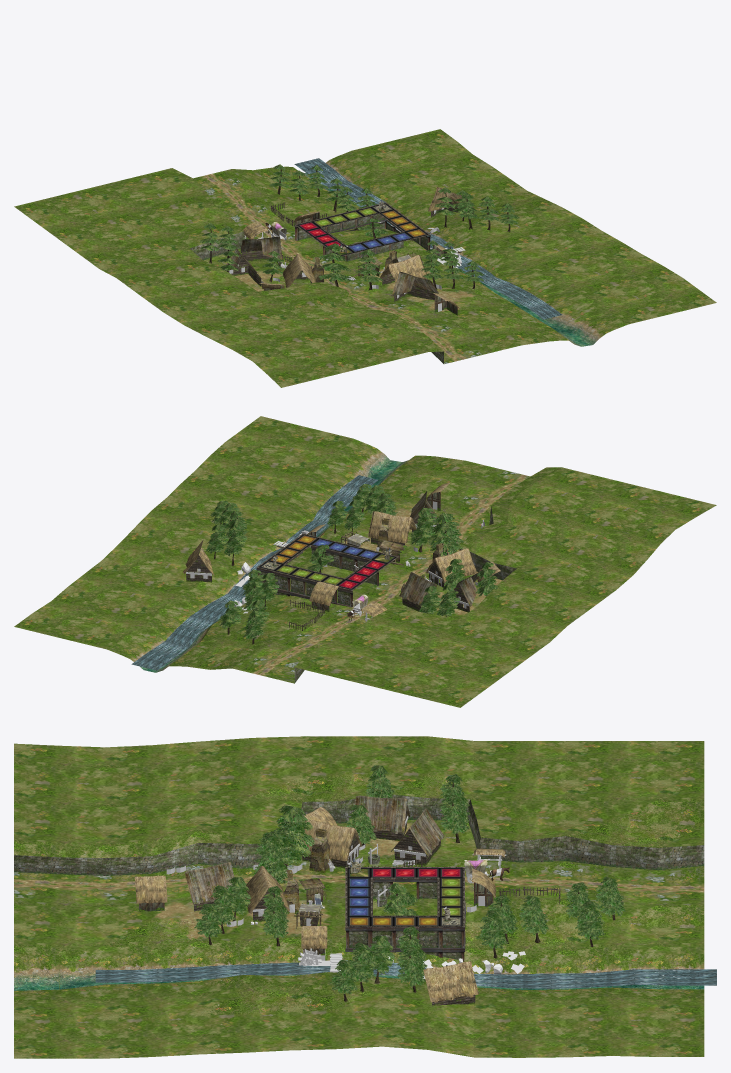
File: Santana.fbx
3 renders of one model, top to bottom at view 1: azimuth 30°, elevation 25°; view 2: azimuth 150°, elevation 25°; view 3: azimuth 270°, elevation 25°, orthographic. The views are drawn at different scales.
Visible parts, largest first — view 1: mesh_56, mesh_58, mesh_57, mesh_87, mesh_94, mesh_59, mesh_23, mesh_11, mesh_29, mesh_20, mesh_12, mesh_47 (+1 smaller); view 2: mesh_56, mesh_58, mesh_87, mesh_57, mesh_94, mesh_11, mesh_29, mesh_59, mesh_23, mesh_10, mesh_12, mesh_60; view 3: mesh_56, mesh_58, mesh_87, mesh_57, mesh_60, mesh_94, mesh_59, mesh_23, mesh_11, mesh_10, mesh_29, mesh_55 (+5 smaller).
Boxes of the visible parts, left/top/right/bottom form: mesh_56: left=14, top=129, right=716, bottom=387; mesh_58: left=276, top=151, right=627, bottom=346; mesh_57: left=193, top=169, right=490, bottom=364; mesh_87: left=200, top=164, right=519, bottom=282; mesh_94: left=294, top=158, right=562, bottom=319; mesh_59: left=234, top=261, right=494, bottom=315; mesh_23: left=224, top=237, right=438, bottom=297; mesh_11: left=294, top=214, right=430, bottom=261; mesh_29: left=283, top=254, right=426, bottom=287; mesh_20: left=225, top=250, right=436, bottom=302; mesh_12: left=295, top=202, right=430, bottom=256; mesh_47: left=209, top=169, right=510, bottom=290; mesh_56: left=14, top=416, right=716, bottom=707; mesh_58: left=107, top=439, right=435, bottom=672; mesh_87: left=206, top=484, right=498, bottom=639; mesh_57: left=232, top=468, right=530, bottom=683; mesh_94: left=131, top=475, right=378, bottom=670; mesh_11: left=256, top=546, right=378, bottom=607; mesh_29: left=368, top=511, right=476, bottom=582; mesh_59: left=337, top=497, right=502, bottom=618; mesh_23: left=399, top=491, right=482, bottom=606; mesh_10: left=307, top=483, right=500, bottom=605; mesh_12: left=257, top=533, right=398, bottom=590; mesh_60: left=294, top=506, right=516, bottom=683; mesh_56: left=14, top=736, right=704, bottom=1058; mesh_58: left=14, top=936, right=704, bottom=1000; mesh_87: left=194, top=765, right=625, bottom=994; mesh_57: left=14, top=857, right=704, bottom=905; mesh_60: left=14, top=794, right=704, bottom=875; mesh_94: left=95, top=960, right=716, bottom=988; mesh_59: left=152, top=820, right=415, bottom=943; mesh_23: left=184, top=795, right=444, bottom=904; mesh_11: left=345, top=878, right=465, bottom=961; mesh_10: left=134, top=807, right=495, bottom=948; mesh_29: left=245, top=819, right=362, bottom=913; mesh_55: left=423, top=961, right=478, bottom=1002.
Size of the model in its own units: 118939 by 40649 by 120274.
Materials: 31 (29 with a texture image).
